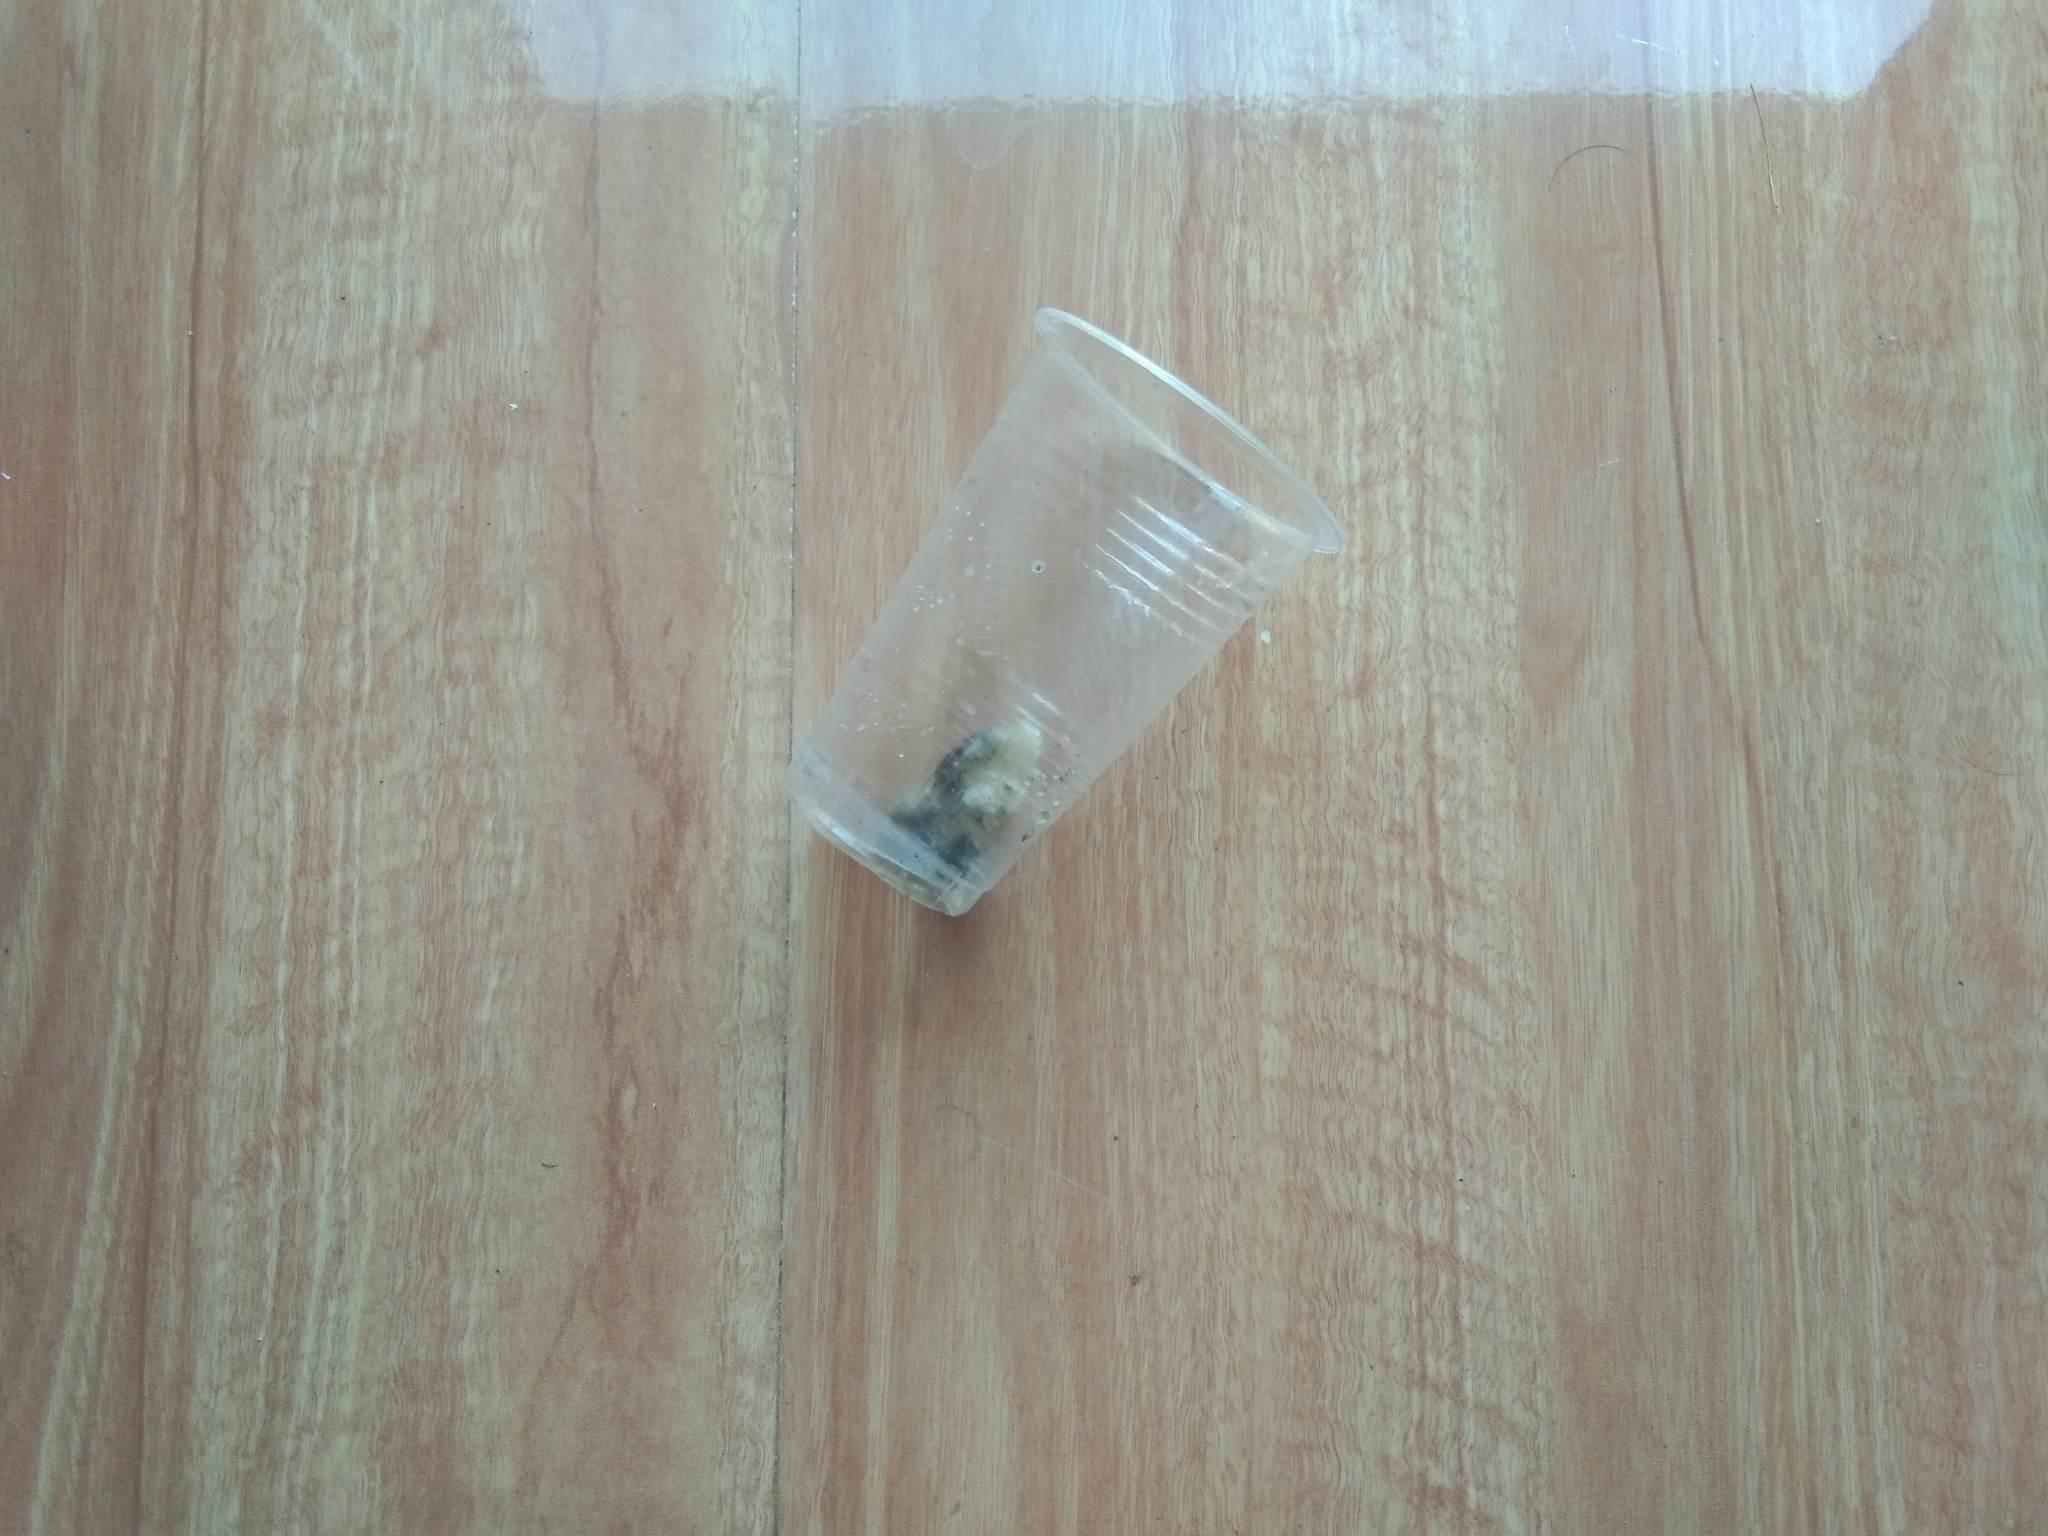plastic: (708, 247, 1466, 966)
